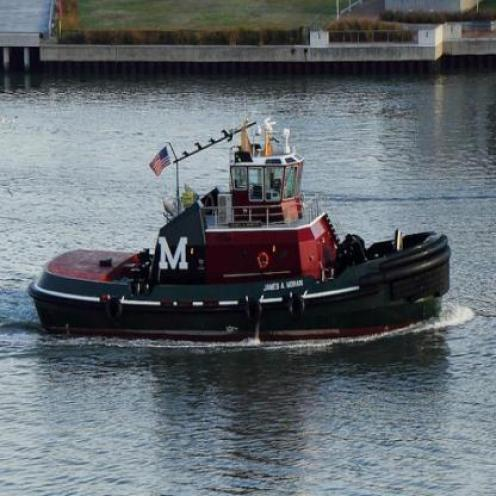Ship: (1, 131, 474, 343)
